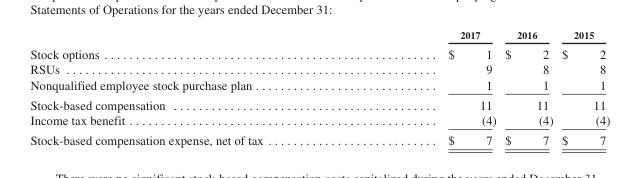table: (29, 28, 609, 146)
table column: (29, 28, 355, 146), (355, 28, 500, 146), (500, 28, 556, 146), (556, 28, 609, 146)
table column header: (29, 28, 609, 43)
table row: (29, 43, 609, 61), (29, 76, 609, 94), (29, 94, 609, 112), (29, 112, 609, 129), (29, 129, 609, 146), (29, 28, 609, 43), (29, 61, 609, 76)
